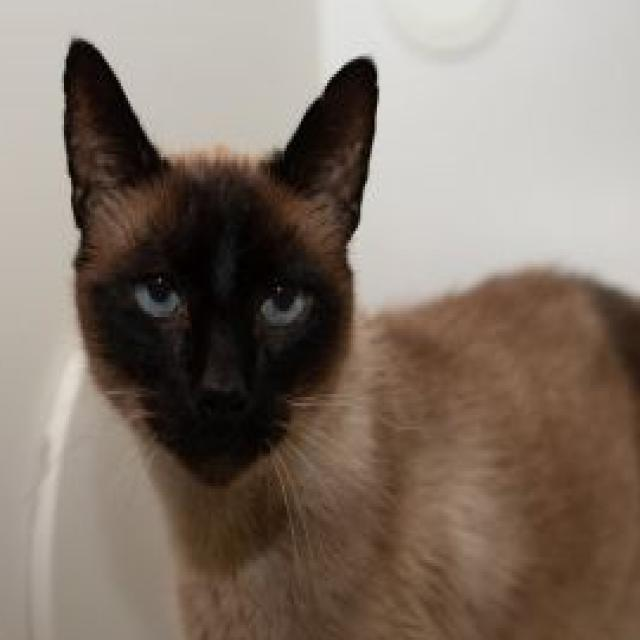Siamese: (59, 32, 639, 640)
